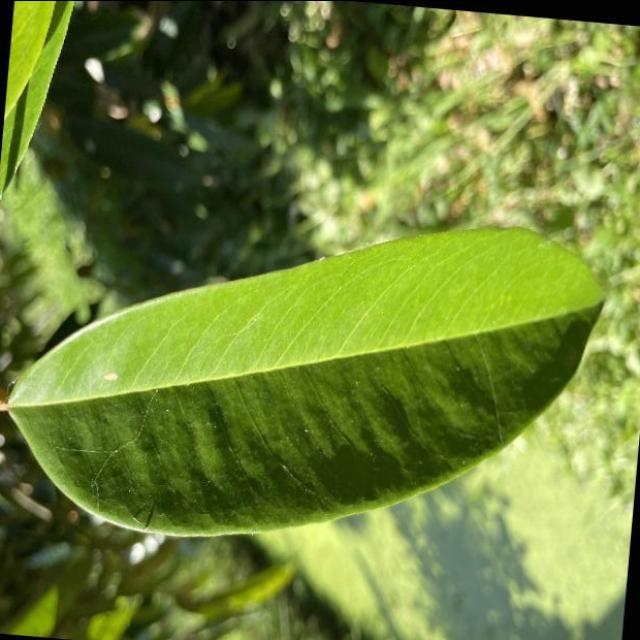No Disease: (1, 174, 628, 580)
